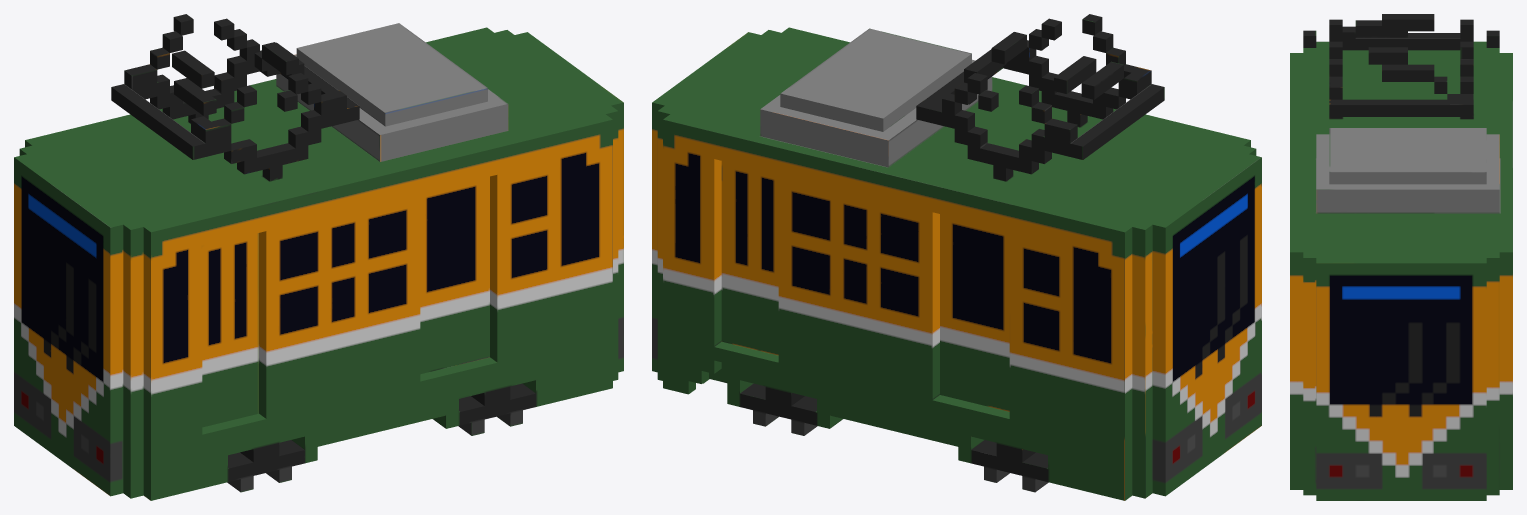
The model's file is kagoshimashiden2.glb.
3 views of the same model, side by side, from view 1: azimuth 30°, elevation 25°; view 2: azimuth 150°, elevation 25°; view 3: azimuth 270°, elevation 25° (orthographic). The views are drawn at different scales.
Visible parts, largest first — view 1: kagoshimashiden2; view 2: kagoshimashiden2; view 3: kagoshimashiden2.
Part boxes in pixels (left/top/right/bottom): kagoshimashiden2: left=14, top=14, right=623, bottom=500; kagoshimashiden2: left=652, top=14, right=1261, bottom=500; kagoshimashiden2: left=1290, top=14, right=1512, bottom=500.
Size of the model in its own units: 0.8 by 0.56 by 0.34.
Materials: 1 (1 with a texture image).
